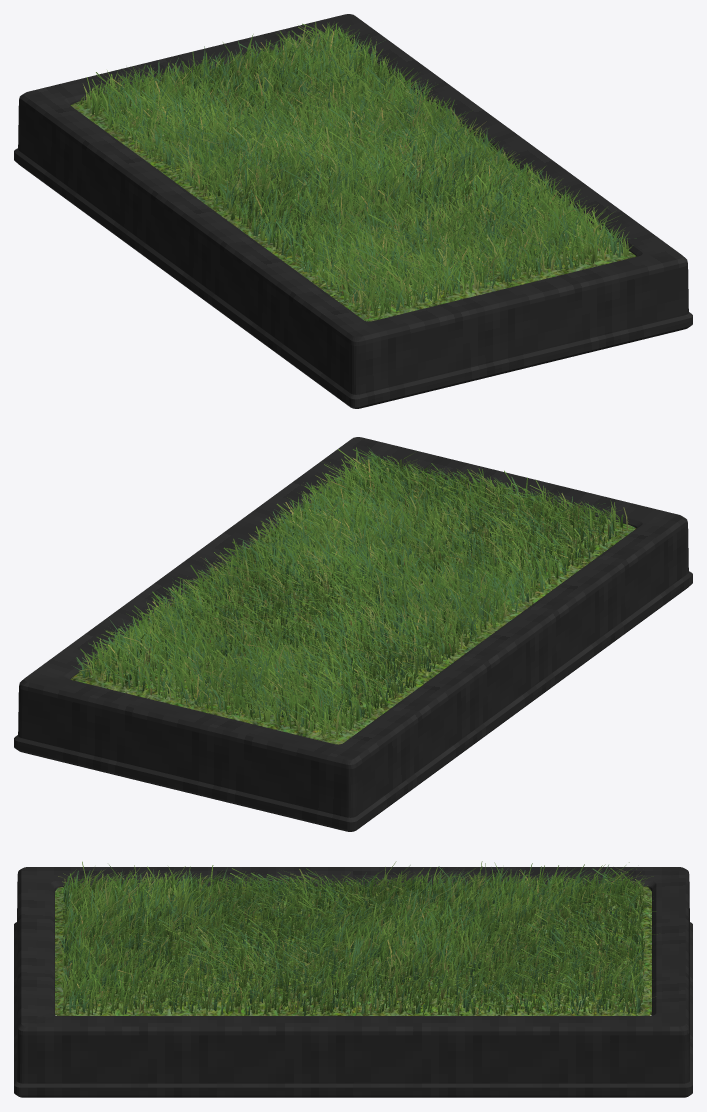
Rendered from flower-rect-grass-detail.glb.
3 renders of one model, top to bottom at view 1: azimuth 30°, elevation 25°; view 2: azimuth 150°, elevation 25°; view 3: azimuth 270°, elevation 25°, orthographic.
Parts seen in each view (by area): view 1: SM_flower_rect_grass; view 2: SM_flower_rect_grass; view 3: SM_flower_rect_grass.
Part boxes in pixels (bbox=[...]): SM_flower_rect_grass: bbox=[14, 14, 692, 408]; SM_flower_rect_grass: bbox=[14, 437, 692, 831]; SM_flower_rect_grass: bbox=[14, 861, 692, 1097].
Bounding box in the file's own units: 0.66 × 0.1914 × 1.14.
Materials: 4 (3 with a texture image).
